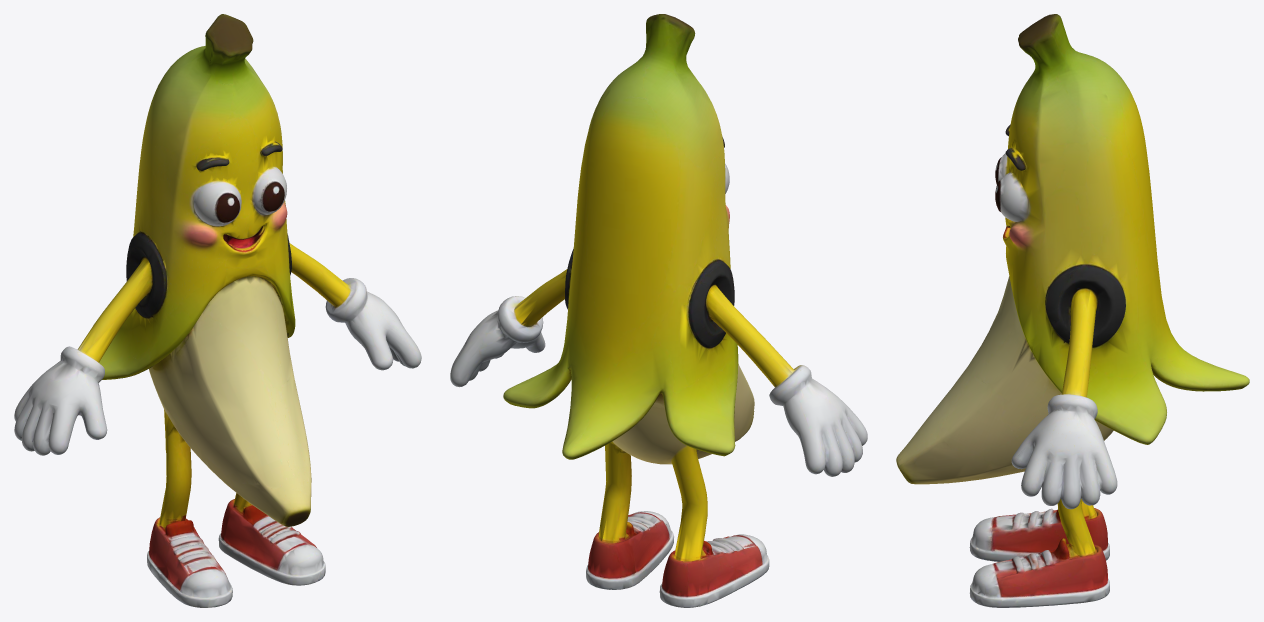
The model's file is kak-pisang.glb.
3 renders of one model, left to right at view 1: azimuth 30°, elevation 25°; view 2: azimuth 150°, elevation 25°; view 3: azimuth 270°, elevation 25°, orthographic. The views are drawn at different scales.
Parts seen in each view (by area): view 1: node_0; view 2: node_0; view 3: node_0.
Part boxes in pixels (<box>): node_0: <box>14,14,421,607</box>; node_0: <box>450,14,867,607</box>; node_0: <box>896,14,1249,607</box>.
Size of the model in its own units: 0.8218 by 1.12 by 0.6435.
1 material, 1 textured.
